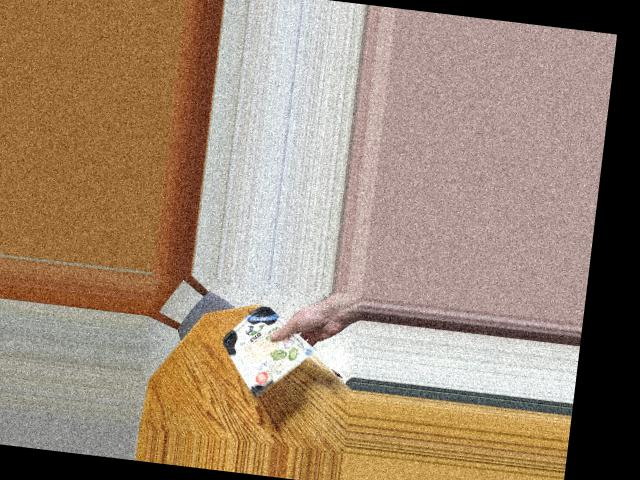cheese: (226, 302, 302, 389)
